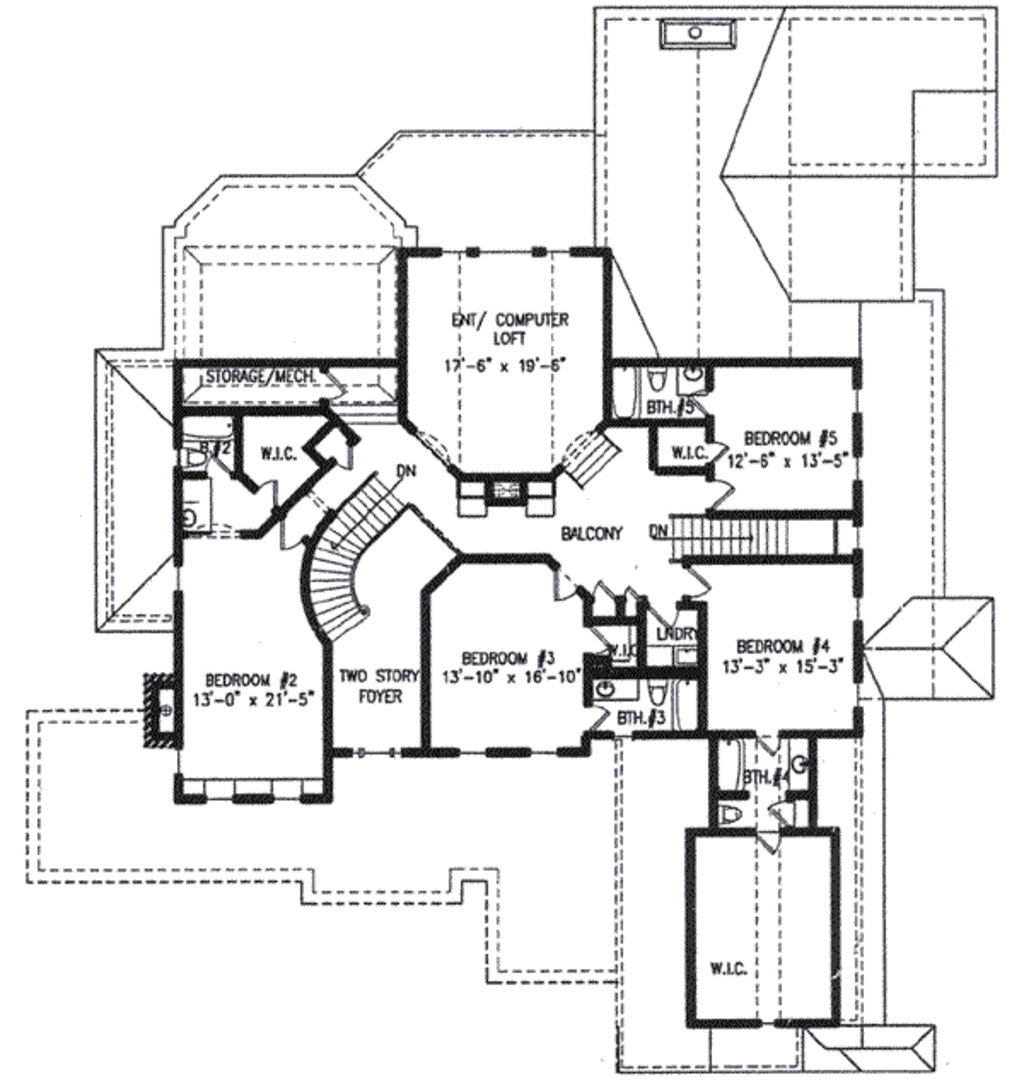door: (647, 605, 694, 633), (686, 562, 718, 603), (704, 472, 735, 511), (587, 572, 625, 603), (254, 474, 285, 511), (552, 567, 581, 606), (699, 437, 733, 467)
large_sink: (645, 667, 676, 711), (171, 442, 214, 469), (709, 803, 754, 828), (647, 360, 670, 394)
small_sink: (180, 489, 219, 542), (682, 349, 715, 393), (789, 747, 816, 791), (589, 676, 631, 699)
stairs: (295, 466, 397, 649), (664, 508, 869, 564)
tub: (175, 411, 242, 444), (611, 359, 645, 423)
window: (341, 746, 408, 758)
